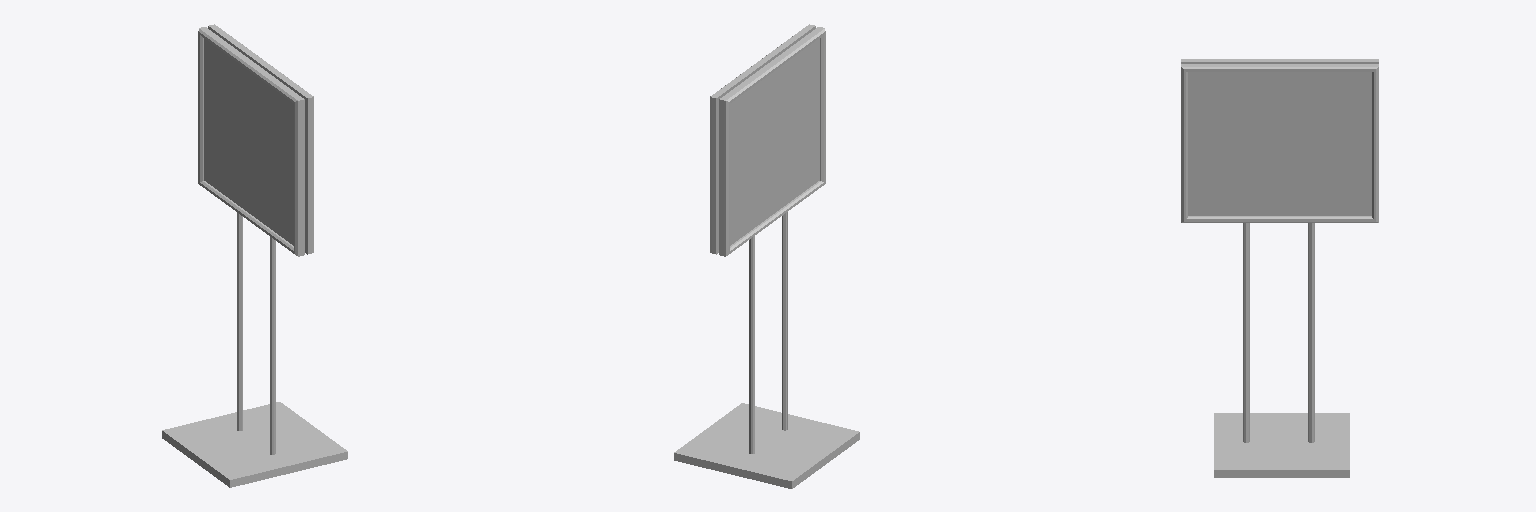
File: sign-half.obj
The picture shows the model from 3 angles: view 1: azimuth 30°, elevation 25°; view 2: azimuth 150°, elevation 25°; view 3: azimuth 270°, elevation 25°; orthographic projection.
Visible parts, largest first — view 1: sign1; view 2: sign1; view 3: sign1.
Boxes of the visible parts, box(x1,y1,x2,y2) form: sign1: box(162, 24, 347, 487); sign1: box(674, 24, 859, 488); sign1: box(1181, 59, 1378, 477).
Bounding box in the file's own units: 0.5012 × 1.57 × 0.7309.